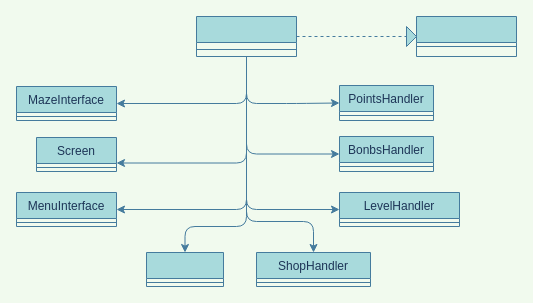
The diagram is 533 pixels wide and 303 high, and some of its shapes have lost their labels. The centre of each missing label's shape, as x and y in pixels:
"Game" goes at point 246,36.
"GameInterface" goes at point 466,36.
"Leaderboard" goes at point 185,269.
